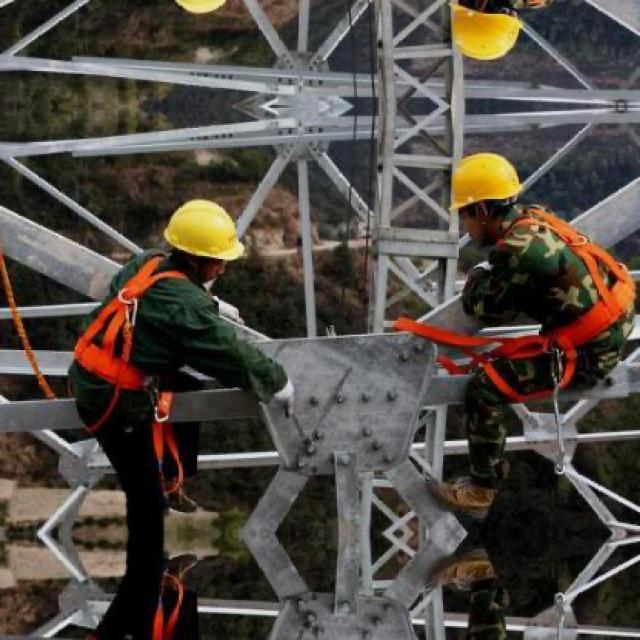con casco: (108, 174, 262, 318), (436, 122, 558, 291)
